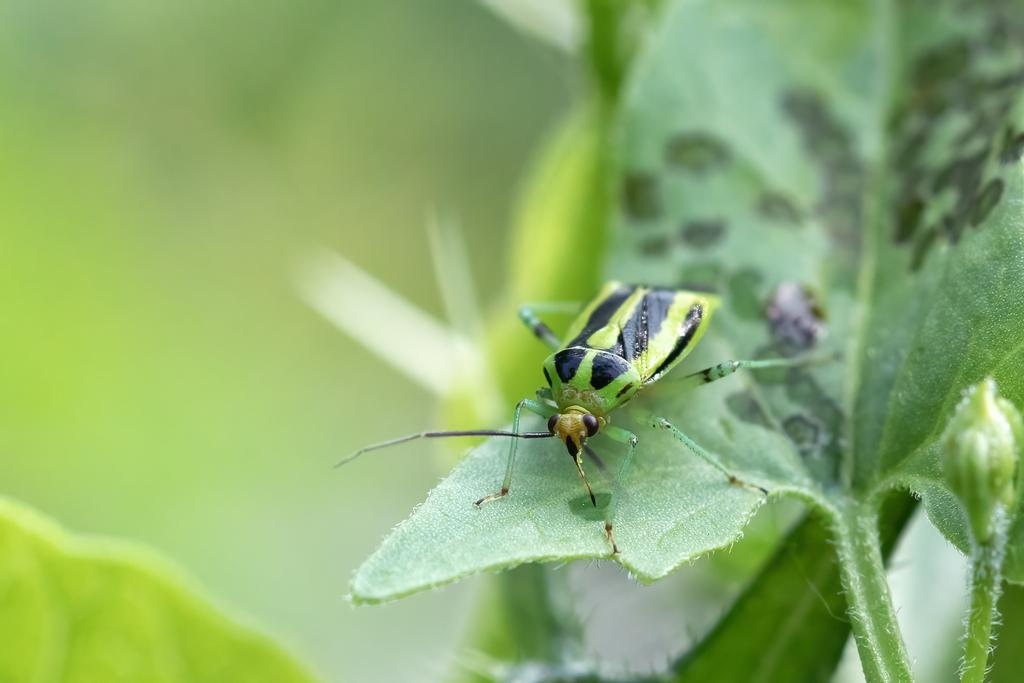plant_bugs: (314, 233, 839, 591)
